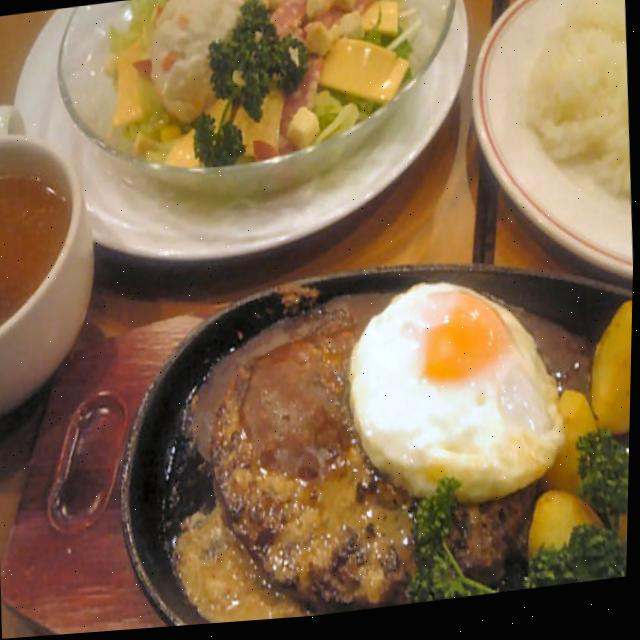米饭主食: (471, 0, 640, 317)
蔬菜料理: (65, 0, 270, 163)
鸡蛋料理: (358, 277, 559, 450)
